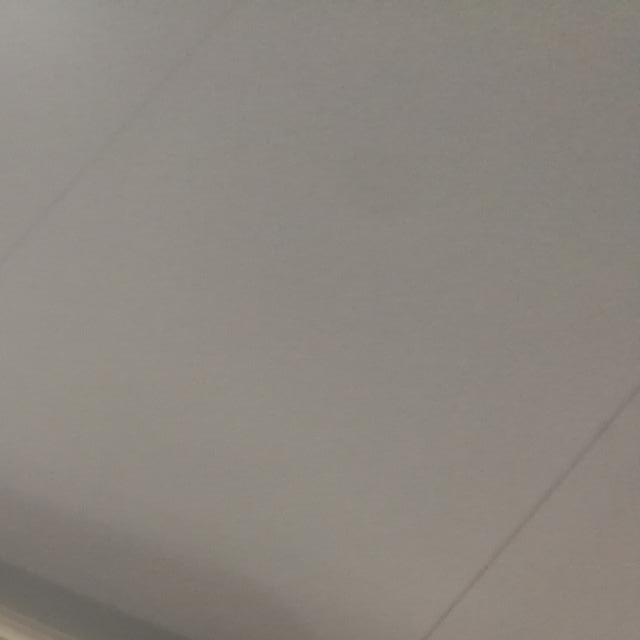fluorescent tube: (0, 363, 578, 640)
